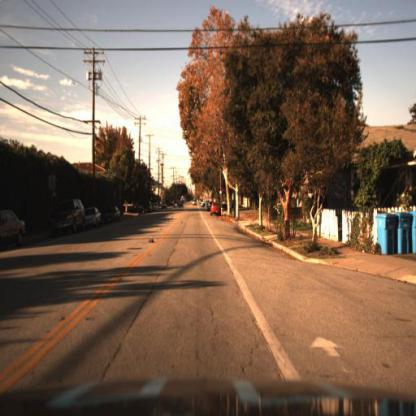car: (47, 194, 87, 240), (1, 208, 28, 252), (55, 199, 87, 233), (79, 202, 97, 233), (84, 203, 103, 231), (104, 204, 124, 227), (211, 202, 223, 218), (139, 199, 151, 213), (142, 203, 154, 216), (177, 198, 187, 213), (192, 197, 202, 210), (150, 202, 157, 215), (204, 200, 212, 211)
